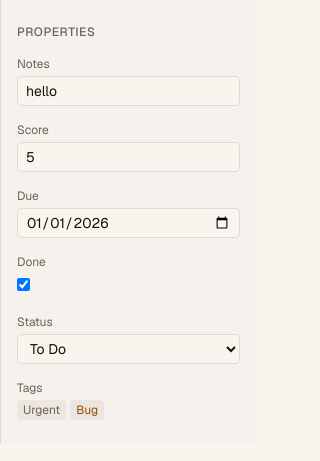
it: PropertiesPanel › does not disable an unrelated field while another field's write is pending
Select "Complete" in the dropdown named "Status" at [128, 349], box [17,334,240,364]
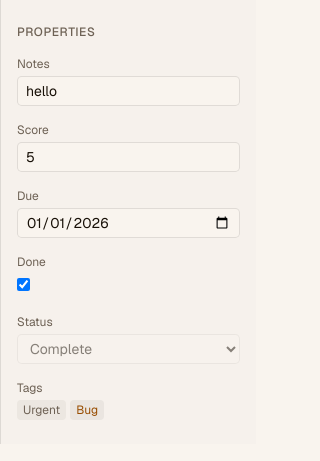
Expected: the button "Urgent" is enabled, [17,400,66,420]
Expected: the dropdown named "Status" is disabled, [17,334,240,364]
